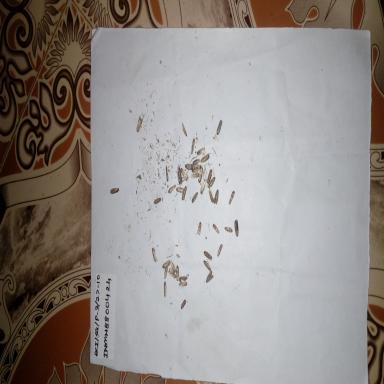pbw: (213, 118, 223, 136), (204, 269, 214, 285), (180, 166, 190, 182), (202, 247, 213, 261), (202, 258, 212, 272), (109, 186, 120, 198), (176, 164, 182, 186), (180, 121, 188, 137), (212, 222, 221, 236), (136, 115, 143, 133), (233, 219, 240, 237), (161, 258, 171, 270), (184, 160, 194, 172), (164, 163, 170, 183), (151, 246, 158, 263), (206, 168, 213, 185), (200, 177, 207, 194), (162, 279, 168, 298), (228, 190, 236, 204), (179, 297, 187, 311), (200, 153, 211, 163), (178, 272, 189, 282), (153, 194, 162, 206), (190, 192, 199, 204), (213, 188, 219, 206), (208, 176, 216, 189), (168, 183, 177, 194), (198, 166, 204, 182), (168, 268, 176, 280), (224, 225, 234, 234), (217, 243, 223, 258), (196, 220, 202, 235), (178, 279, 188, 288), (208, 189, 214, 203), (163, 264, 168, 280), (190, 138, 195, 154), (196, 147, 206, 155), (170, 260, 176, 273), (192, 165, 202, 172), (192, 158, 200, 166), (192, 172, 200, 180), (182, 185, 186, 201), (176, 186, 184, 193), (176, 265, 179, 283)
